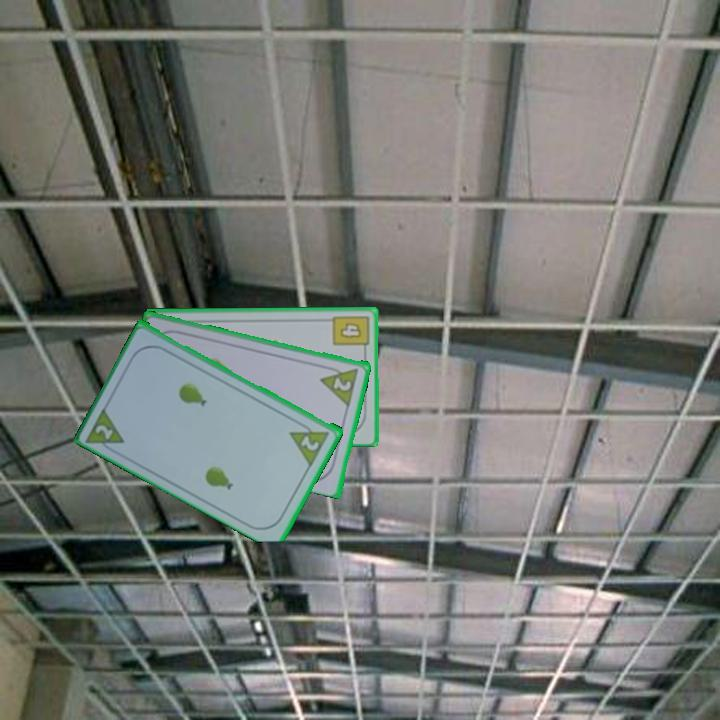2p: (286, 417, 333, 468), (92, 420, 117, 442), (330, 373, 355, 394)
4b: (329, 312, 371, 355)
